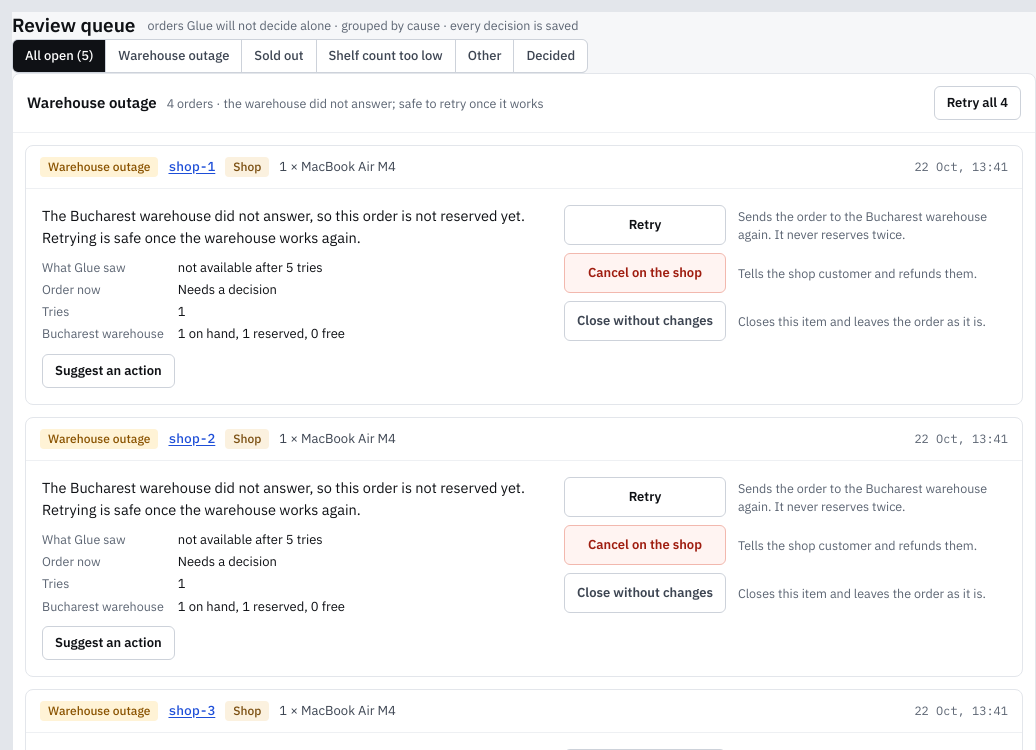
Test: shows why the warehouse outage could not be retried
Click the button "Retry all 4" at (977, 103), box [934, 86, 1021, 120]
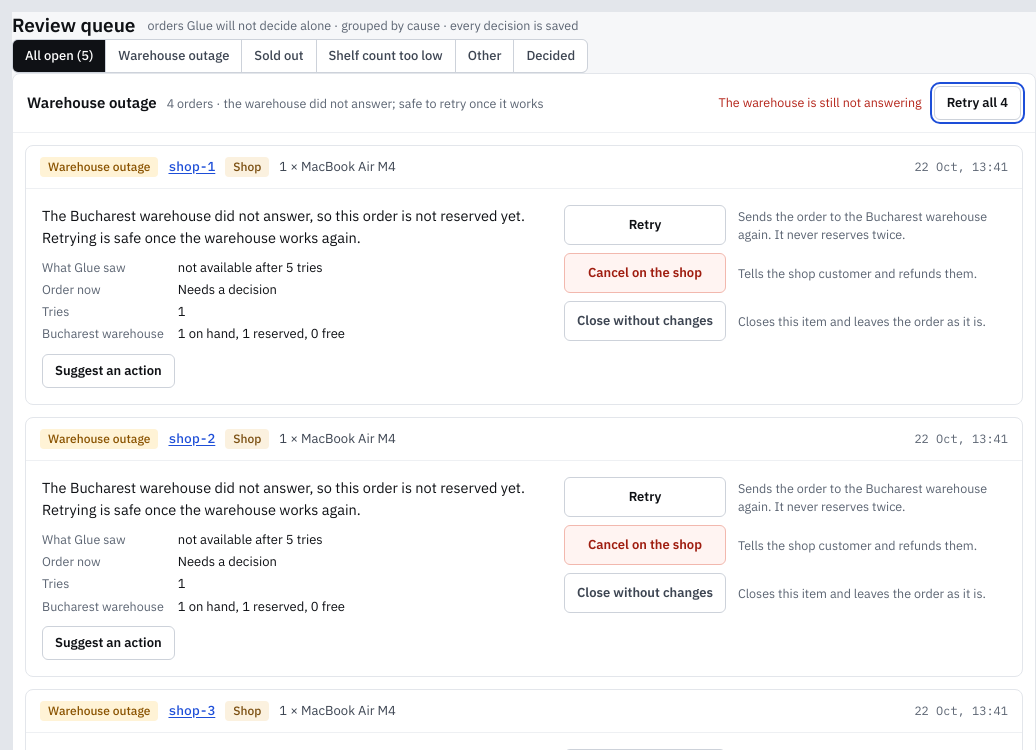
Expected: the message reads "The warehouse is still not answering", [719, 94, 922, 110]
